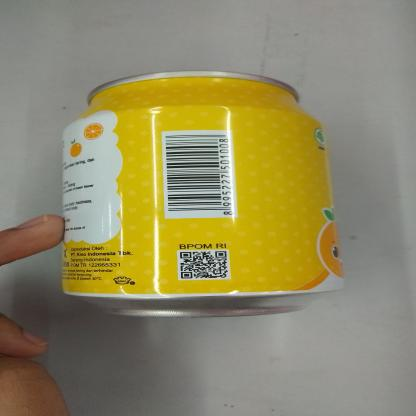can: (57, 68, 354, 322)
